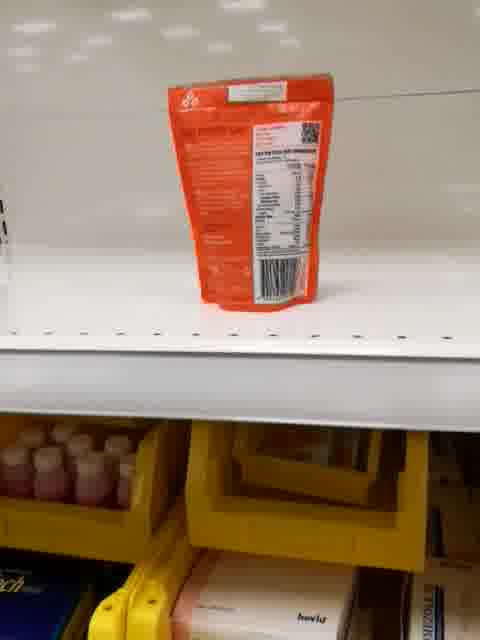whitechia: (164, 70, 337, 315)
